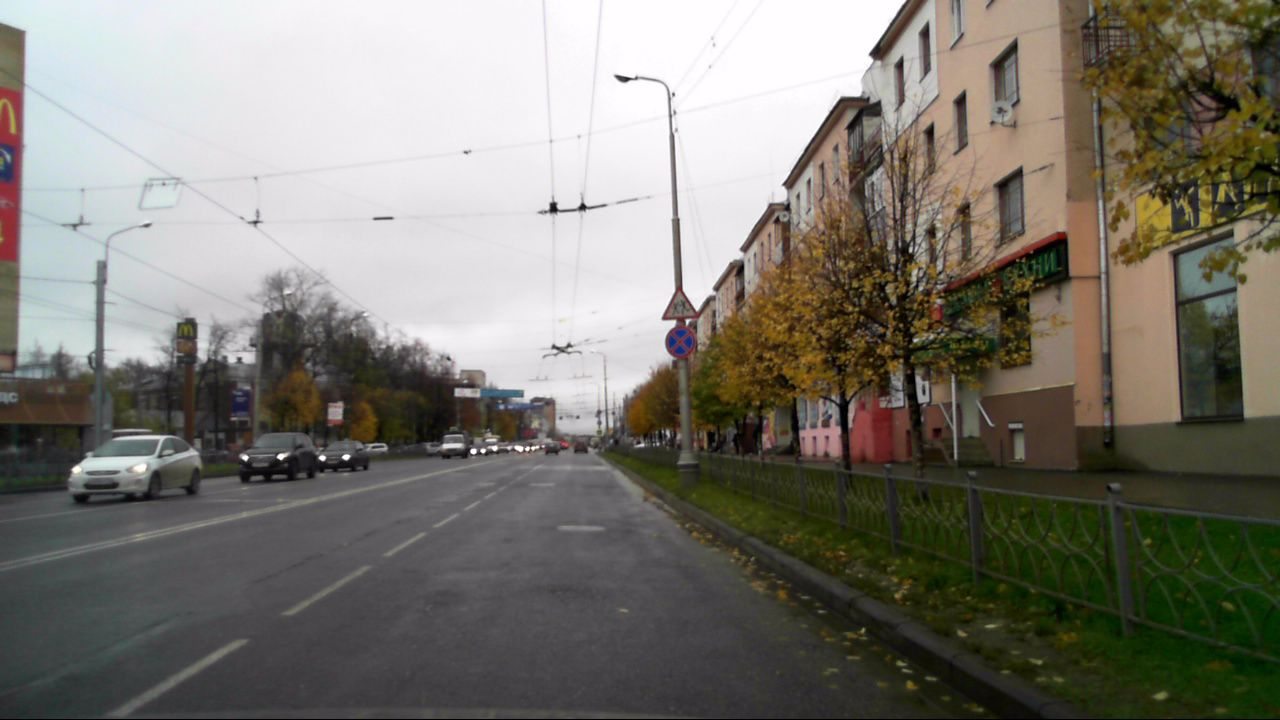No Parking: (665, 324, 695, 358)
